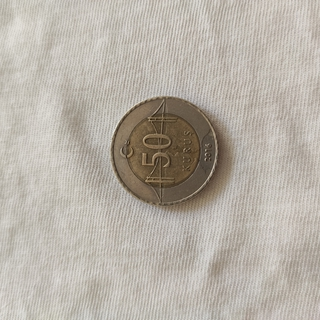50KURUS: (108, 94, 222, 207)
